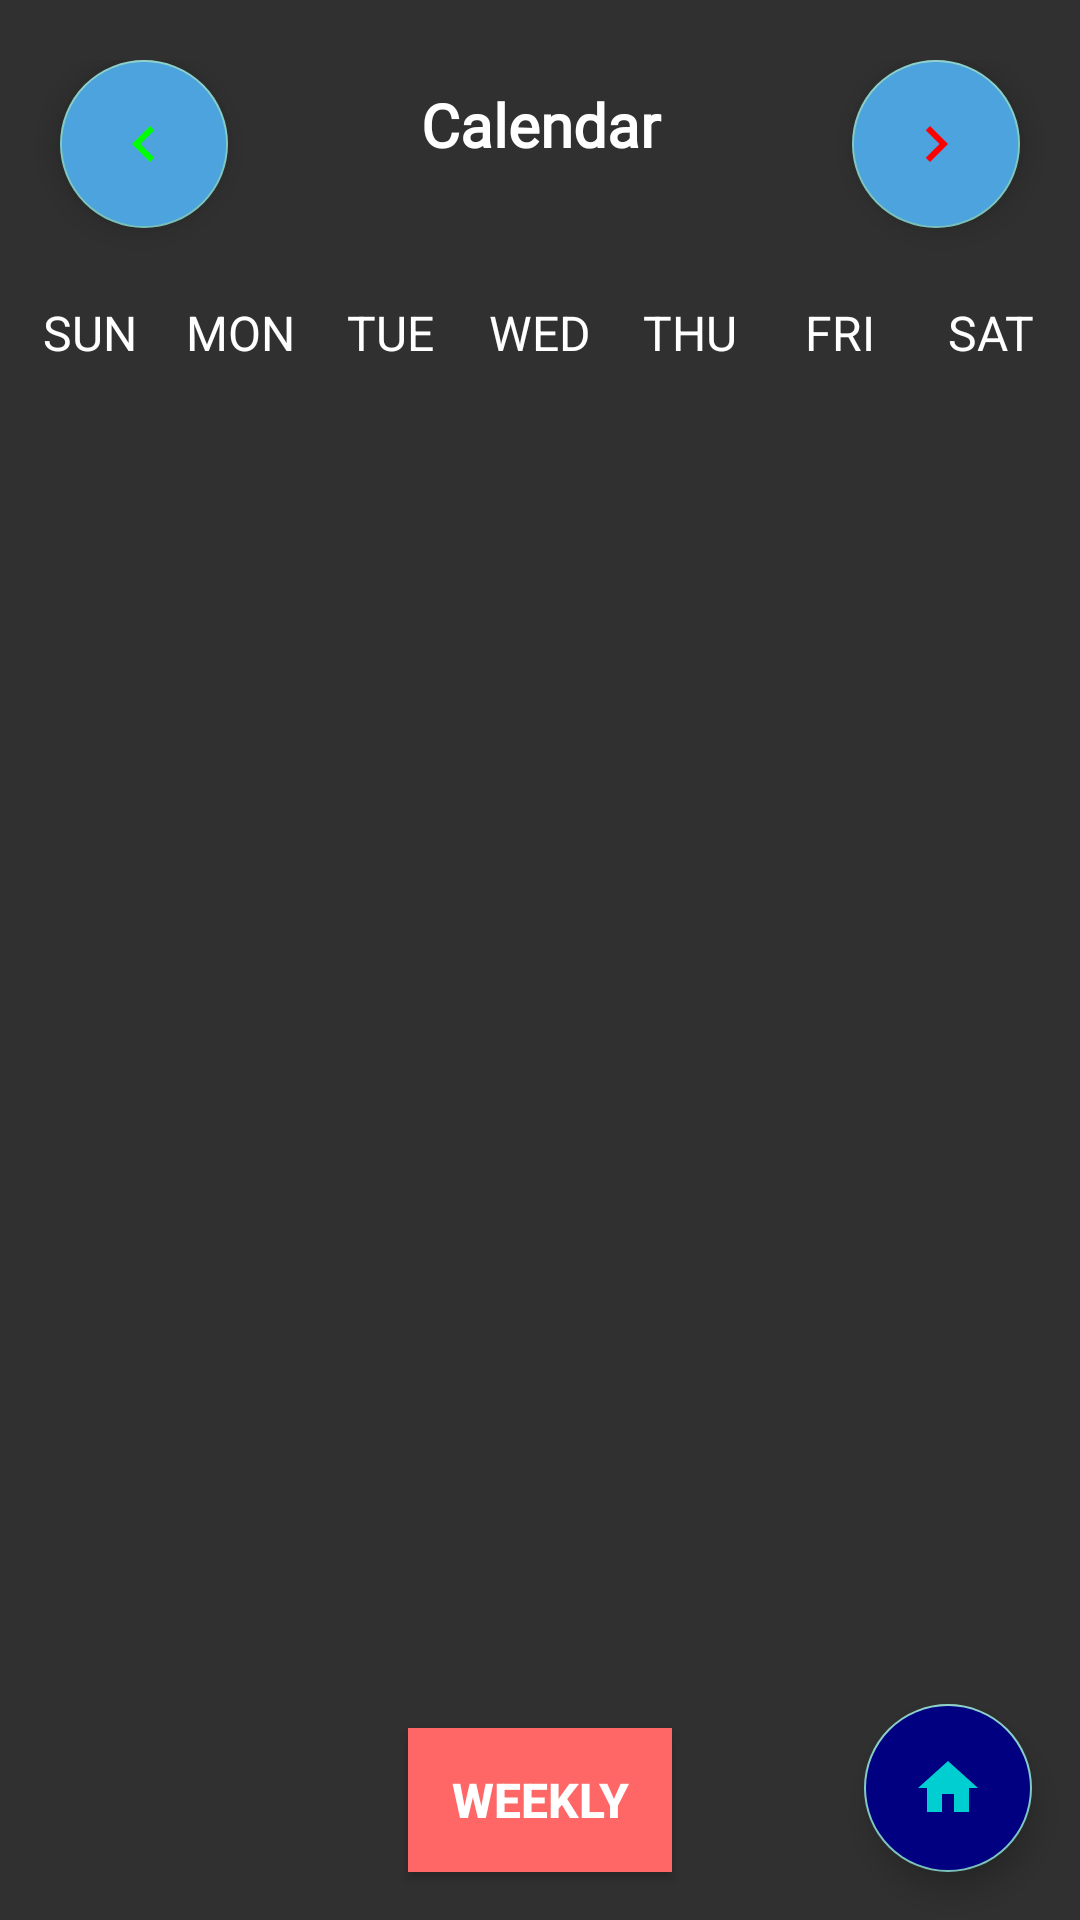

Named icons in this screenshot (1080px×1920px) and their centers, [x,y]:
before: [144,144]
home: [948,1788]
next: [936,144]
